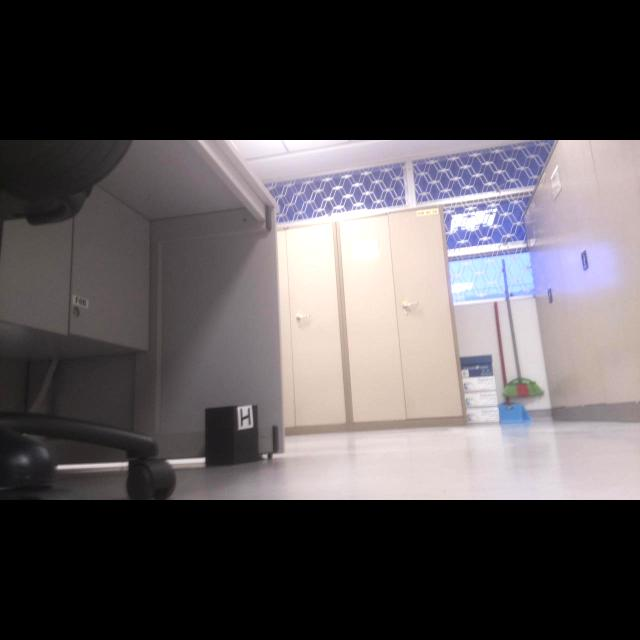H: (240, 407, 251, 427)
